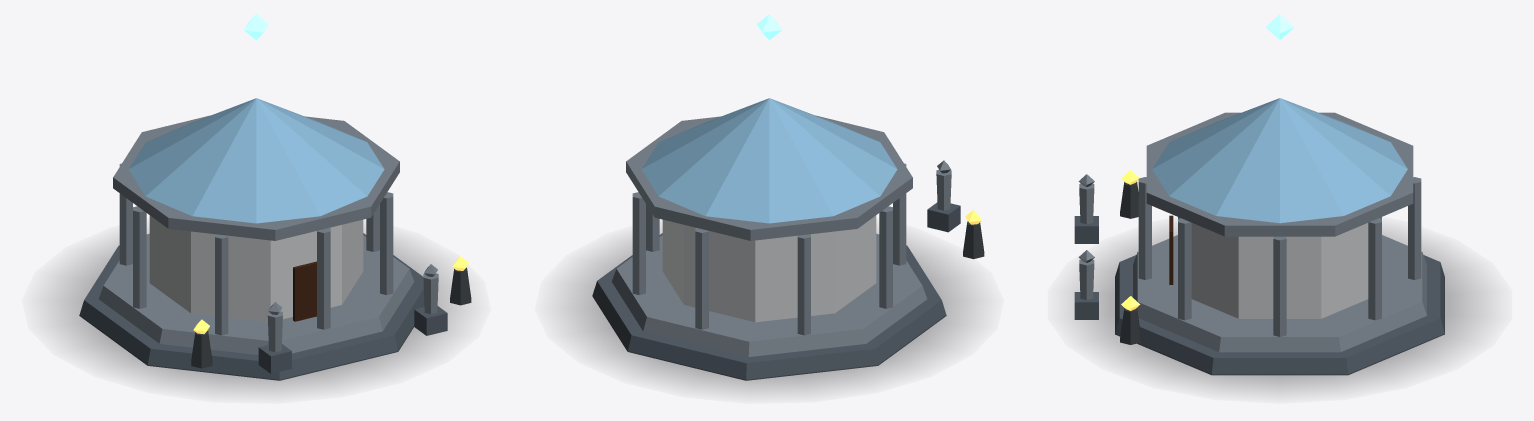
File: hero_hall_t1.glb
The picture shows the model from 3 angles, left to right: view 1: azimuth 30°, elevation 25°; view 2: azimuth 150°, elevation 25°; view 3: azimuth 270°, elevation 25°; orthographic projection.
Parts seen in each view (by area): view 1: hero_hall_t1; view 2: hero_hall_t1; view 3: hero_hall_t1.
Boxes of the visible parts, x1=… form: hero_hall_t1: x1=51, y1=14, x2=471, y2=391; hero_hall_t1: x1=564, y1=14, x2=984, y2=391; hero_hall_t1: x1=1074, y1=14, x2=1483, y2=391.
Size of the model in its own units: 9.92 by 6.6 by 9.82.
